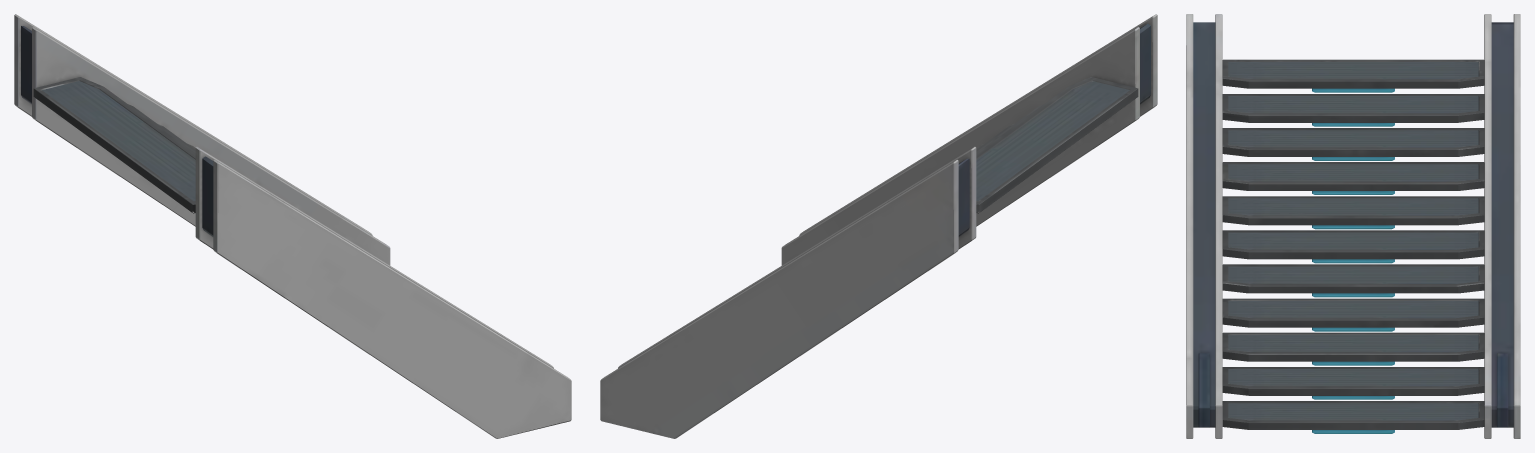
Rendered from SM_Stair_SF_8b577a.glb.
3 views of the same model, side by side, from view 1: azimuth 30°, elevation 25°; view 2: azimuth 150°, elevation 25°; view 3: azimuth 270°, elevation 25° (orthographic). The views are drawn at different scales.
Bounding box in the file's own units: 4.06 × 3.74 × 4.
1 material, 1 textured.
